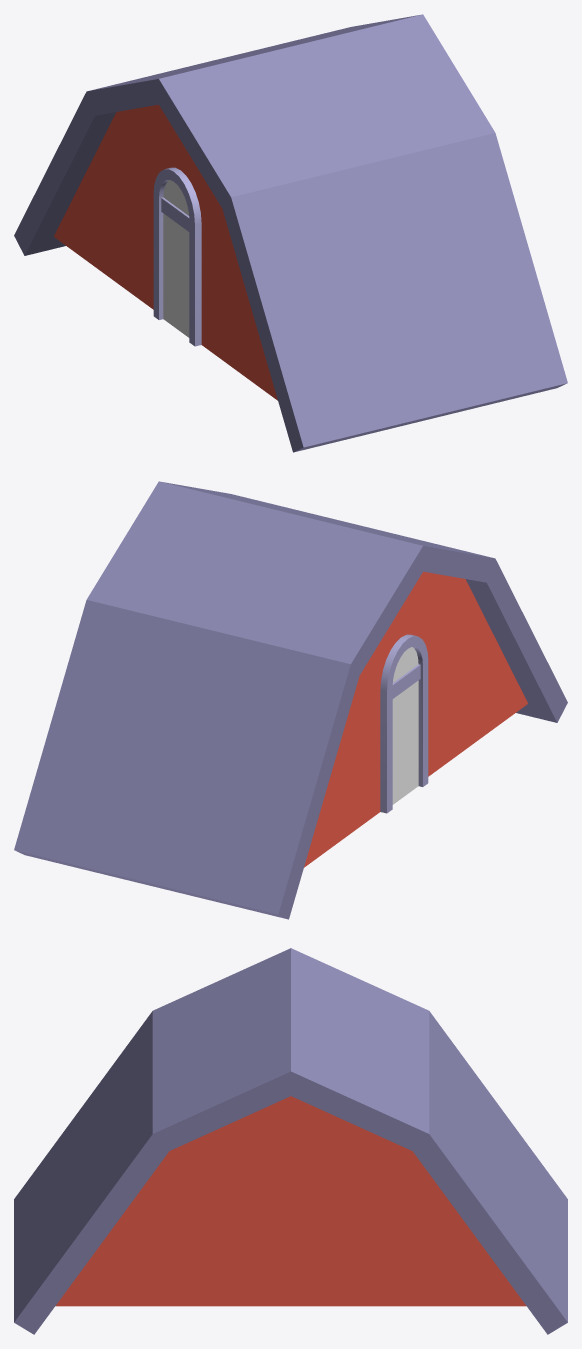
File: woodcutter.fbx
The picture shows the model from 3 angles, top to bottom: view 1: azimuth 30°, elevation 25°; view 2: azimuth 150°, elevation 25°; view 3: azimuth 270°, elevation 25°; orthographic projection. The views are drawn at different scales.
Visible parts, largest first — view 1: mergedBlocks; view 2: mergedBlocks; view 3: mergedBlocks.
Part boxes in pixels (left/top/right/bottom): mergedBlocks: left=14, top=14, right=567, bottom=452; mergedBlocks: left=14, top=481, right=567, bottom=919; mergedBlocks: left=14, top=948, right=567, bottom=1334.
Bounding box in the file's own units: 0.12 × 0.1195 × 0.2277.
